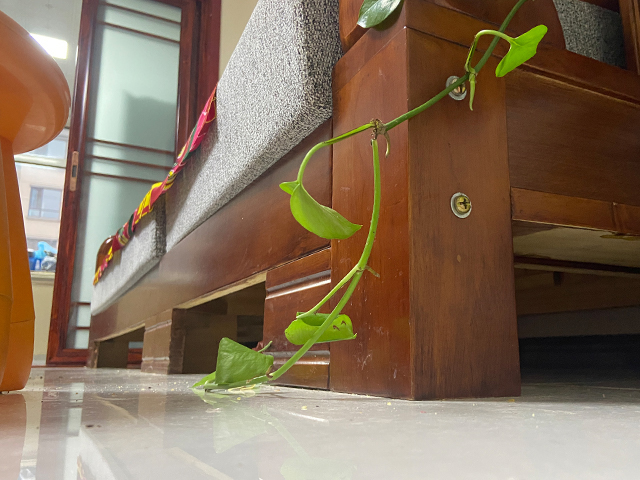stool: (1, 8, 75, 397)
table: (85, 1, 640, 403)
